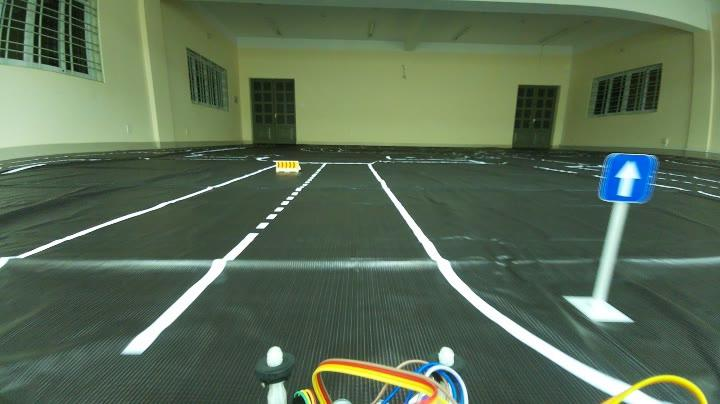onewayroad: (604, 150, 660, 207)
roadblock: (271, 158, 304, 177)
